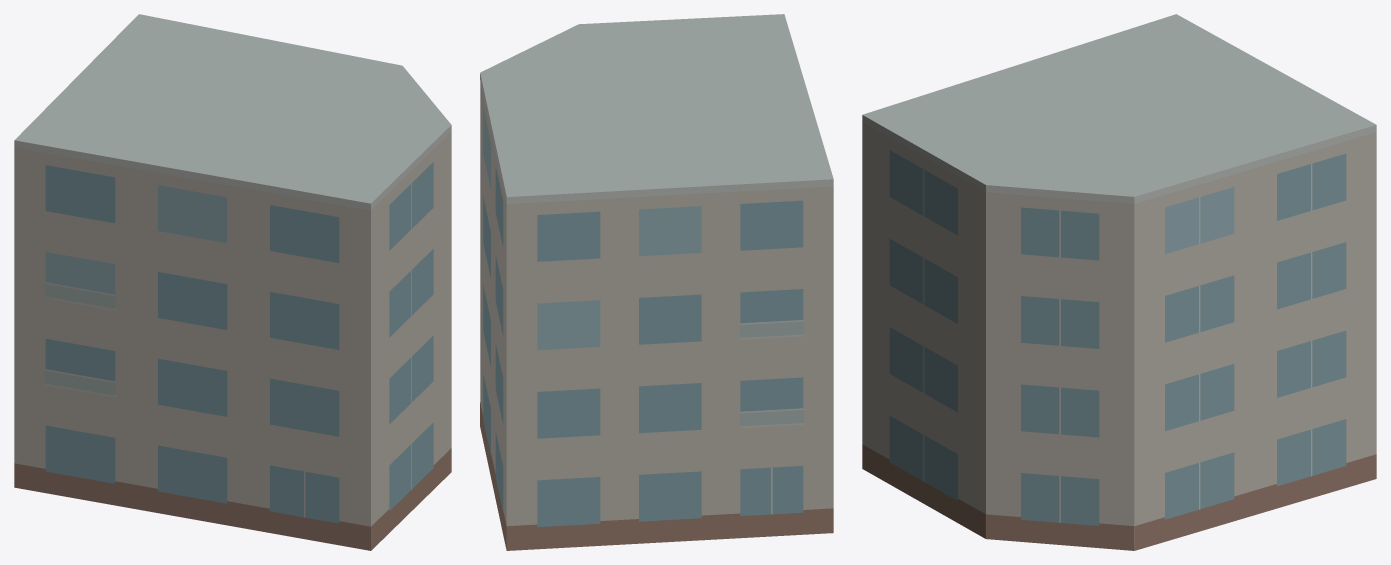
Rendered from survey-upis-33046304.glb.
3 views of the same model, side by side, from view 1: azimuth 30°, elevation 25°; view 2: azimuth 150°, elevation 25°; view 3: azimuth 270°, elevation 25° (orthographic).
Visible parts, largest first — view 1: survey-upis-33046304.tmp; view 2: survey-upis-33046304.tmp; view 3: survey-upis-33046304.tmp.
Boxes of the visible parts, <box> form: survey-upis-33046304.tmp: <box>14,14,451,550</box>; survey-upis-33046304.tmp: <box>480,14,833,550</box>; survey-upis-33046304.tmp: <box>862,14,1376,550</box>.
Bounding box in the file's own units: 13.53 × 12.2 × 16.08.
